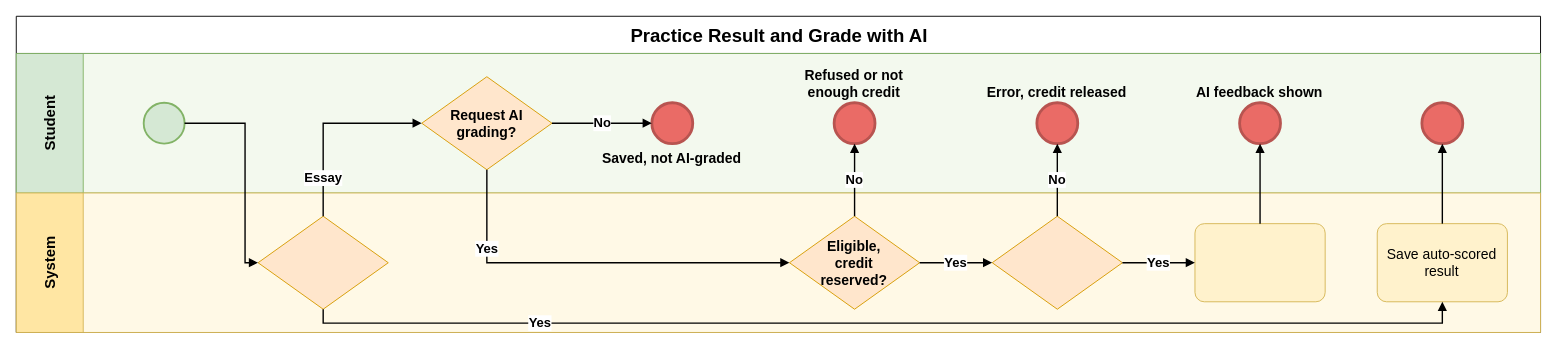
The diagram is 1557 pixels wide and 349 high, and some of its shapes have lost their labels. The shapes that lost their labels are listed below. From the top down, each one's box as (x1, y1, x2, y2) in pixels, then its label:
(142, 101, 185, 144): Practice submitted
(1420, 101, 1464, 145): Practice result shown
(257, 215, 388, 309): Quiz or Code Lab?
(991, 215, 1122, 309): AI graded within 5 min?
(1194, 223, 1325, 302): Save result, settle credit
